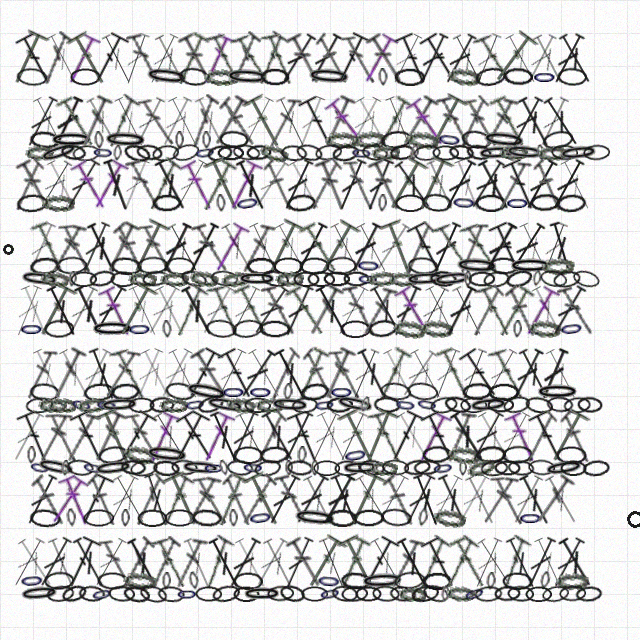chain: (183, 379, 230, 405), (38, 139, 80, 166), (144, 65, 190, 88), (144, 443, 190, 466), (481, 129, 527, 151), (292, 507, 338, 529), (306, 66, 352, 87), (334, 393, 376, 416), (35, 456, 77, 479), (204, 394, 246, 416), (543, 457, 585, 479), (454, 256, 500, 276), (225, 67, 270, 87), (103, 130, 148, 150), (360, 571, 405, 591), (558, 143, 599, 163), (19, 269, 60, 289), (432, 269, 473, 289), (468, 395, 509, 415), (93, 458, 134, 478), (541, 128, 575, 152), (49, 131, 94, 149), (508, 257, 553, 275), (90, 320, 135, 338), (535, 383, 580, 401), (122, 443, 157, 466), (465, 455, 497, 480), (504, 143, 545, 162), (19, 584, 60, 603), (392, 318, 427, 340), (432, 507, 467, 529), (474, 65, 507, 88), (460, 128, 493, 151), (99, 396, 140, 414), (180, 459, 221, 477), (164, 380, 196, 403), (477, 144, 517, 162), (405, 270, 445, 288), (270, 396, 310, 414), (447, 66, 481, 87), (352, 129, 386, 150), (258, 142, 290, 164), (299, 381, 331, 403), (97, 444, 129, 466), (231, 318, 264, 339), (379, 381, 412, 402), (406, 381, 439, 402), (393, 570, 426, 591), (171, 141, 201, 164), (504, 267, 534, 290), (196, 393, 226, 416), (421, 582, 451, 605), (138, 583, 169, 605), (406, 130, 440, 150), (541, 256, 575, 276), (447, 445, 481, 465), (555, 571, 589, 591), (178, 66, 210, 87), (380, 129, 412, 150), (421, 192, 453, 213), (205, 318, 237, 339), (367, 318, 399, 339), (380, 507, 412, 528), (60, 582, 89, 605), (122, 142, 152, 164), (179, 268, 209, 290), (571, 268, 601, 290), (16, 67, 48, 87), (16, 193, 48, 213), (110, 256, 142, 276), (407, 256, 439, 276), (237, 271, 277, 287), (83, 382, 115, 402), (341, 460, 381, 476), (29, 508, 61, 528), (242, 586, 282, 602), (260, 268, 290, 289), (211, 583, 241, 604), (410, 583, 440, 604), (420, 319, 453, 338), (528, 319, 561, 338), (123, 571, 156, 590), (29, 130, 60, 150), (286, 193, 317, 213), (556, 193, 587, 213), (29, 256, 60, 276), (220, 269, 251, 289), (29, 382, 60, 402), (110, 382, 141, 402), (76, 395, 107, 415), (259, 445, 290, 465), (191, 508, 222, 528), (340, 571, 371, 591), (295, 142, 324, 163), (88, 268, 117, 289), (539, 268, 568, 289), (443, 394, 472, 415), (502, 394, 531, 415), (278, 583, 307, 604), (552, 269, 582, 289), (429, 395, 459, 415), (524, 395, 554, 415), (129, 458, 159, 478), (204, 68, 237, 86), (325, 131, 358, 149), (42, 194, 75, 212), (234, 192, 261, 214), (342, 444, 369, 466), (56, 256, 87, 275), (137, 256, 168, 275), (326, 256, 357, 275), (502, 445, 533, 464), (151, 143, 180, 163), (331, 143, 360, 163), (482, 269, 511, 289), (253, 458, 282, 478), (122, 584, 151, 604), (541, 584, 570, 604), (503, 67, 533, 86), (557, 67, 587, 86), (219, 130, 249, 149), (530, 193, 560, 212), (189, 269, 219, 288), (367, 269, 397, 288), (44, 319, 74, 338), (462, 382, 492, 401), (422, 445, 452, 464), (476, 445, 506, 464), (44, 571, 74, 590), (436, 129, 463, 150), (558, 318, 585, 339), (247, 507, 274, 528), (206, 143, 234, 163), (70, 68, 101, 86), (394, 68, 425, 86), (475, 194, 506, 212), (164, 257, 195, 275), (299, 257, 330, 275), (259, 320, 290, 338), (340, 320, 371, 338), (488, 383, 519, 401), (556, 446, 587, 464), (83, 509, 114, 527), (137, 509, 168, 527), (164, 509, 195, 527), (353, 509, 384, 527), (97, 572, 128, 590), (502, 572, 533, 590), (135, 143, 164, 162), (232, 143, 261, 162), (314, 143, 343, 162), (141, 269, 170, 288), (210, 269, 239, 288), (46, 584, 75, 603), (260, 68, 290, 86), (537, 144, 567, 162), (152, 194, 182, 212), (395, 194, 425, 212), (246, 257, 276, 275), (273, 257, 303, 275), (489, 257, 519, 275), (40, 270, 70, 288), (226, 396, 256, 414), (233, 446, 263, 464), (327, 509, 357, 527), (233, 572, 263, 590), (422, 572, 452, 590), (361, 143, 389, 162), (465, 143, 493, 162), (66, 458, 94, 477), (403, 458, 431, 477), (331, 584, 359, 603), (462, 583, 487, 604), (72, 144, 101, 162), (25, 396, 54, 414), (480, 459, 509, 477), (474, 585, 503, 603), (316, 571, 342, 591), (60, 143, 87, 162), (389, 143, 416, 162), (448, 143, 475, 162), (280, 144, 308, 162), (413, 144, 441, 162), (291, 396, 319, 414), (563, 396, 591, 414), (152, 459, 180, 477), (226, 459, 254, 477), (286, 459, 314, 477), (507, 459, 535, 477), (582, 459, 610, 477), (157, 585, 185, 603), (389, 585, 417, 603), (575, 585, 603, 603), (69, 395, 94, 415), (451, 193, 477, 212), (19, 571, 45, 590), (25, 144, 54, 161), (371, 144, 400, 161), (499, 144, 528, 161), (275, 270, 304, 287), (446, 585, 475, 602), (81, 458, 105, 478), (90, 584, 114, 604), (429, 270, 457, 287), (373, 396, 401, 413), (546, 396, 574, 413), (358, 459, 386, 476), (413, 459, 441, 476), (78, 585, 106, 602), (372, 585, 400, 602), (356, 256, 381, 275), (128, 271, 157, 287), (160, 271, 189, 287), (389, 271, 418, 287), (38, 397, 67, 413), (48, 397, 77, 413), (159, 397, 188, 413), (255, 397, 284, 413), (369, 460, 398, 476), (398, 586, 427, 602), (551, 144, 578, 161), (583, 144, 610, 161), (326, 396, 353, 413), (120, 459, 147, 476), (171, 459, 198, 476), (382, 459, 409, 476), (528, 459, 555, 476), (108, 585, 135, 602), (267, 585, 294, 602), (341, 585, 368, 602), (494, 585, 521, 602), (507, 585, 534, 602), (559, 585, 586, 602), (193, 143, 217, 162), (183, 395, 207, 414), (415, 395, 439, 414), (28, 458, 52, 477), (318, 584, 342, 603), (532, 68, 557, 86), (505, 194, 530, 212), (19, 320, 44, 338), (127, 320, 152, 338), (221, 383, 246, 401), (248, 383, 273, 401), (329, 383, 354, 401), (518, 509, 543, 527), (307, 271, 335, 287), (246, 144, 272, 161), (149, 396, 175, 413), (577, 396, 603, 413), (217, 145, 244, 161), (432, 145, 459, 161), (70, 271, 97, 287), (110, 271, 137, 287), (293, 271, 320, 287), (323, 271, 350, 287), (343, 271, 370, 287), (468, 271, 495, 287), (128, 397, 155, 413), (244, 397, 271, 413), (460, 397, 487, 413), (487, 397, 514, 413), (313, 460, 340, 476), (334, 460, 361, 476), (431, 459, 455, 477), (494, 460, 521, 476), (560, 460, 587, 476), (195, 586, 222, 602), (233, 586, 260, 602), (301, 586, 328, 602), (355, 586, 382, 602), (525, 586, 552, 602), (350, 144, 373, 162), (95, 396, 118, 414), (313, 396, 336, 414), (394, 396, 417, 414), (92, 144, 114, 161), (242, 459, 264, 476), (357, 271, 379, 287), (203, 460, 225, 476), (176, 586, 198, 602), (417, 508, 429, 527), (188, 571, 200, 590), (539, 571, 551, 590), (66, 508, 77, 527), (359, 396, 371, 413), (218, 459, 230, 476), (409, 144, 420, 161), (378, 68, 388, 86), (94, 131, 104, 149), (216, 194, 226, 212), (162, 320, 172, 338), (283, 383, 293, 401), (297, 446, 307, 464), (486, 572, 496, 590), (536, 144, 546, 161), (532, 270, 542, 287), (175, 131, 184, 149), (202, 131, 211, 149), (378, 194, 387, 212), (513, 320, 522, 338), (27, 446, 36, 464), (121, 509, 130, 527), (229, 509, 238, 527), (162, 572, 171, 590), (113, 145, 122, 161), (68, 271, 77, 287), (61, 460, 70, 476), (441, 586, 450, 602), (464, 271, 472, 287), (285, 460, 293, 476), (311, 460, 319, 476), (459, 460, 467, 476)
double: (488, 30, 539, 87), (457, 345, 505, 402), (66, 30, 113, 88), (382, 156, 429, 214), (314, 219, 361, 277), (112, 282, 159, 340), (544, 408, 591, 466), (301, 534, 348, 592), (174, 408, 221, 465), (242, 93, 288, 151), (423, 93, 469, 151), (32, 282, 78, 340), (126, 218, 171, 277), (261, 218, 306, 277), (337, 407, 382, 466), (242, 470, 287, 529), (337, 533, 382, 592), (418, 30, 464, 87), (113, 408, 159, 465), (6, 29, 50, 88), (203, 155, 247, 214), (411, 155, 455, 214), (162, 470, 206, 529), (343, 470, 387, 529), (14, 30, 58, 88), (87, 30, 131, 88), (405, 219, 449, 277), (181, 345, 225, 403), (216, 345, 260, 403), (168, 408, 212, 466), (419, 534, 463, 592), (95, 407, 138, 466), (472, 31, 517, 87), (431, 220, 476, 276), (283, 283, 328, 339), (491, 283, 536, 339), (357, 534, 401, 591), (330, 30, 373, 88), (297, 93, 340, 151), (68, 408, 111, 466), (384, 408, 427, 466), (419, 408, 462, 466), (527, 408, 570, 466), (358, 407, 400, 466), (230, 31, 274, 87), (54, 94, 98, 150), (370, 94, 414, 150), (297, 220, 341, 276), (459, 220, 503, 276), (323, 95, 369, 148), (487, 219, 529, 277), (74, 471, 116, 529), (61, 534, 103, 592), (404, 95, 449, 149), (391, 158, 436, 212), (248, 284, 293, 338), (396, 347, 441, 401), (531, 473, 576, 527), (540, 94, 584, 149), (249, 157, 293, 212), (370, 220, 414, 275), (505, 220, 549, 275), (189, 346, 233, 401), (14, 535, 58, 590), (473, 535, 517, 590), (379, 218, 420, 277), (195, 157, 238, 213), (169, 30, 211, 87), (487, 93, 529, 150), (142, 156, 184, 213), (371, 345, 413, 402), (487, 345, 529, 402), (439, 534, 481, 591), (447, 534, 489, 591), (393, 30, 434, 88), (501, 156, 542, 214), (15, 408, 56, 466), (285, 408, 326, 466), (235, 347, 279, 401), (46, 473, 90, 527), (276, 31, 319, 86), (365, 31, 408, 86), (397, 94, 440, 149), (33, 157, 76, 212), (465, 157, 508, 212), (149, 409, 192, 464), (446, 409, 489, 464), (351, 472, 394, 527), (101, 93, 142, 150), (169, 282, 210, 339), (231, 282, 272, 339), (474, 282, 515, 339), (109, 345, 150, 402), (290, 345, 331, 402), (150, 534, 191, 591), (412, 534, 453, 591), (358, 31, 400, 86), (555, 31, 597, 86), (82, 94, 124, 149), (209, 94, 251, 149), (352, 94, 394, 149), (61, 157, 103, 212), (69, 157, 111, 212), (88, 157, 130, 212), (169, 157, 211, 212), (209, 220, 251, 275), (217, 220, 259, 275), (479, 220, 521, 275), (88, 283, 130, 338), (142, 283, 184, 338), (196, 283, 238, 338), (366, 283, 408, 338), (393, 283, 435, 338), (547, 283, 589, 338), (244, 346, 286, 401), (479, 346, 521, 401), (393, 409, 435, 464), (474, 409, 516, 464), (109, 472, 151, 527), (290, 472, 332, 527), (317, 472, 359, 527), (452, 472, 494, 527), (541, 472, 583, 527), (88, 535, 130, 590), (250, 535, 292, 590), (285, 535, 327, 590), (366, 535, 408, 590), (555, 535, 597, 590), (177, 31, 218, 87), (285, 31, 326, 87), (439, 31, 480, 87), (501, 31, 542, 87), (344, 94, 385, 150), (506, 94, 547, 150), (514, 94, 555, 150), (15, 157, 56, 213), (285, 157, 326, 213), (439, 157, 480, 213), (474, 157, 515, 213), (520, 157, 561, 213), (163, 220, 204, 276), (271, 220, 312, 276), (352, 220, 393, 276), (177, 283, 218, 339), (304, 283, 345, 339), (331, 283, 372, 339), (412, 283, 453, 339), (520, 283, 561, 339), (528, 283, 569, 339), (55, 346, 96, 402), (271, 346, 312, 402), (379, 346, 420, 402), (406, 346, 447, 402), (7, 409, 48, 465), (231, 409, 272, 465), (493, 409, 534, 465), (263, 472, 304, 528), (425, 472, 466, 528), (123, 535, 164, 591), (223, 535, 264, 591), (231, 535, 272, 591), (393, 535, 434, 591), (547, 535, 588, 591), (205, 30, 245, 87), (251, 30, 291, 87), (156, 471, 196, 528), (210, 471, 250, 528), (332, 534, 372, 591), (304, 31, 345, 86), (547, 157, 588, 212), (312, 283, 353, 338), (155, 346, 196, 401), (258, 409, 299, 464), (466, 409, 507, 464), (371, 472, 412, 527), (7, 535, 48, 590), (34, 535, 75, 590), (69, 535, 110, 590), (43, 31, 83, 87), (62, 31, 102, 87), (97, 31, 137, 87), (151, 31, 191, 87), (386, 31, 426, 87), (448, 31, 488, 87), (521, 31, 561, 87), (529, 31, 569, 87), (548, 31, 588, 87), (21, 94, 61, 150), (29, 94, 69, 150), (110, 94, 150, 150), (129, 94, 169, 150), (156, 94, 196, 150), (164, 94, 204, 150), (191, 94, 231, 150), (237, 94, 277, 150), (43, 157, 83, 213), (151, 157, 191, 213), (178, 157, 218, 213), (224, 157, 264, 213), (556, 157, 596, 213), (183, 220, 223, 276), (291, 220, 331, 276), (326, 220, 366, 276), (345, 220, 385, 276), (62, 283, 102, 339), (151, 283, 191, 339), (224, 283, 264, 339), (421, 283, 461, 339), (440, 283, 480, 339), (448, 283, 488, 339), (48, 346, 88, 402), (75, 346, 115, 402), (137, 346, 177, 402), (164, 346, 204, 402), (210, 346, 250, 402), (353, 346, 393, 402), (507, 346, 547, 402), (515, 346, 555, 402), (542, 346, 582, 402), (413, 409, 453, 465), (21, 472, 61, 528), (102, 472, 142, 528), (299, 472, 339, 528), (399, 472, 439, 528), (461, 472, 501, 528), (507, 472, 547, 528), (515, 472, 555, 528), (205, 535, 245, 591), (259, 535, 299, 591), (217, 95, 259, 148), (236, 473, 278, 526), (29, 219, 68, 276), (434, 345, 473, 402), (367, 408, 406, 465), (143, 31, 182, 87), (413, 31, 452, 87), (48, 94, 87, 150), (272, 94, 311, 150), (534, 94, 573, 150), (232, 157, 271, 213), (278, 157, 317, 213), (367, 157, 406, 213), (83, 220, 122, 276), (102, 220, 141, 276), (156, 220, 195, 276), (245, 220, 284, 276), (515, 220, 554, 276), (43, 283, 82, 339), (70, 283, 109, 339), (97, 283, 136, 339), (124, 283, 163, 339), (29, 346, 68, 402), (89, 409, 128, 465), (278, 409, 317, 465), (305, 409, 344, 465), (313, 409, 352, 465), (434, 472, 473, 528), (502, 535, 541, 591), (521, 535, 560, 591), (260, 30, 298, 87), (206, 282, 244, 339), (198, 534, 236, 591), (495, 534, 533, 591), (29, 473, 69, 527), (116, 536, 156, 590), (198, 31, 236, 87), (76, 94, 114, 150), (319, 94, 357, 150), (422, 157, 460, 213), (22, 220, 60, 276), (76, 220, 114, 276), (427, 220, 465, 276), (279, 283, 317, 339), (387, 283, 425, 339), (319, 346, 357, 402), (198, 409, 236, 465), (206, 409, 244, 465), (333, 409, 371, 465), (503, 409, 541, 465), (179, 535, 217, 591), (279, 535, 317, 591), (468, 535, 506, 591), (530, 535, 568, 591), (137, 95, 177, 148), (48, 221, 87, 275), (191, 221, 230, 275), (359, 284, 398, 338), (183, 473, 222, 527), (381, 94, 418, 150), (117, 157, 154, 213), (314, 157, 351, 213), (333, 157, 370, 213), (9, 283, 46, 339), (17, 283, 54, 339), (130, 346, 167, 402), (346, 346, 383, 402), (535, 346, 572, 402), (144, 409, 181, 465), (225, 409, 262, 465), (57, 472, 94, 528), (327, 472, 364, 528), (44, 535, 81, 591), (314, 535, 351, 591), (313, 32, 352, 85), (102, 347, 141, 400), (480, 473, 519, 526), (462, 95, 500, 149), (481, 95, 519, 149), (111, 221, 149, 275), (238, 221, 276, 275), (468, 284, 506, 338), (557, 284, 595, 338), (300, 347, 338, 401), (63, 410, 101, 464), (192, 473, 230, 527), (144, 536, 182, 590), (387, 536, 425, 590), (225, 31, 262, 86), (125, 157, 162, 212), (469, 31, 505, 87), (293, 94, 329, 150), (361, 157, 397, 213), (450, 157, 486, 213), (536, 220, 572, 276), (85, 346, 121, 402), (428, 346, 464, 402), (455, 346, 491, 402), (409, 472, 445, 528), (306, 158, 344, 211), (125, 410, 163, 463), (341, 32, 378, 86), (495, 158, 532, 212), (138, 221, 175, 275), (503, 284, 540, 338), (36, 410, 73, 464), (252, 410, 289, 464), (522, 410, 559, 464), (381, 473, 418, 527), (98, 536, 135, 590), (37, 31, 73, 86), (126, 31, 162, 86), (436, 94, 472, 149), (261, 283, 297, 338), (274, 472, 310, 527), (172, 535, 208, 590), (99, 157, 134, 213), (266, 95, 302, 149), (455, 95, 491, 149), (10, 158, 46, 212), (261, 158, 297, 212), (58, 221, 94, 275), (266, 347, 302, 401), (558, 410, 594, 464), (131, 473, 167, 527), (490, 473, 526, 527), (185, 94, 220, 149), (342, 283, 377, 338), (119, 31, 153, 87), (140, 472, 174, 528), (531, 158, 566, 212), (401, 221, 436, 275), (23, 347, 58, 401), (328, 347, 363, 401), (45, 410, 80, 464), (85, 473, 120, 527), (220, 473, 255, 527), (443, 409, 477, 464), (343, 157, 376, 212), (456, 220, 489, 275), (546, 220, 578, 276)
noise: (624, 508, 640, 530), (1, 242, 15, 256)
